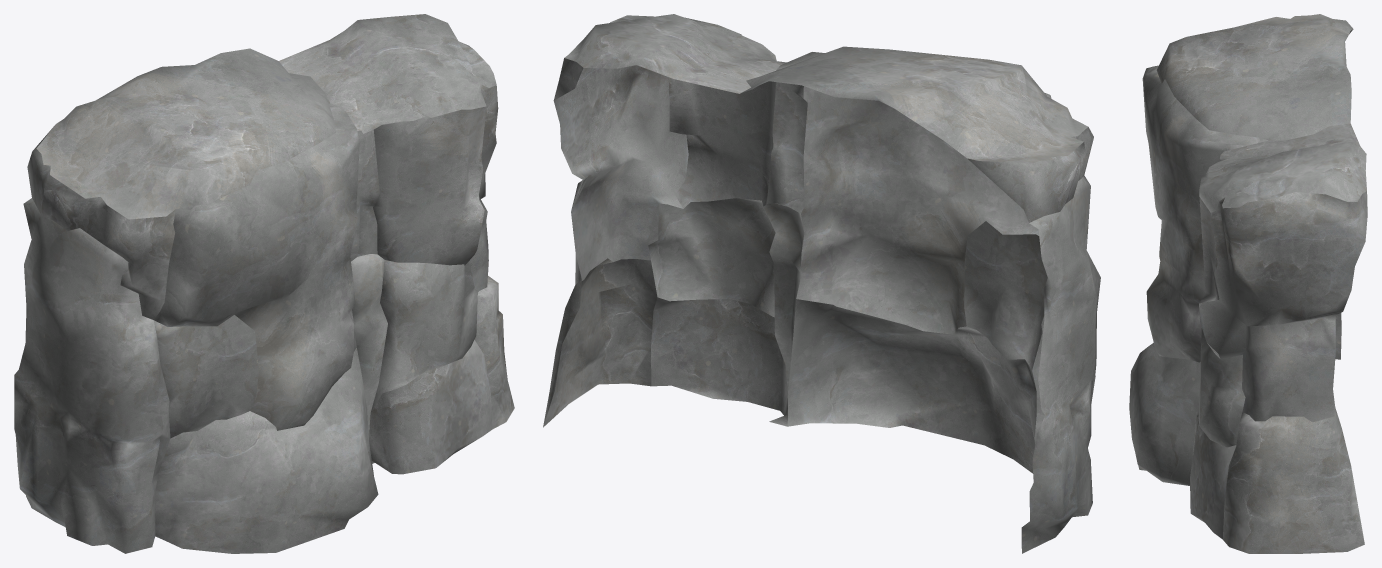
Rendered from SM_Com_Roc_68AS.fbx.
The picture shows the model from 3 angles, left to right: view 1: azimuth 30°, elevation 25°; view 2: azimuth 150°, elevation 25°; view 3: azimuth 270°, elevation 25°; orthographic projection. The views are drawn at different scales.
Visible parts, largest first — view 1: SM_Com_Roc_68AS.mo; view 2: SM_Com_Roc_68AS.mo; view 3: SM_Com_Roc_68AS.mo.
Boxes of the visible parts, x1,y1,x2,y2 form: SM_Com_Roc_68AS.mo: (14, 14, 514, 553); SM_Com_Roc_68AS.mo: (543, 14, 1100, 553); SM_Com_Roc_68AS.mo: (1129, 14, 1367, 553).
Bounding box in the file's own units: 22.92 × 19.21 × 10.48.
